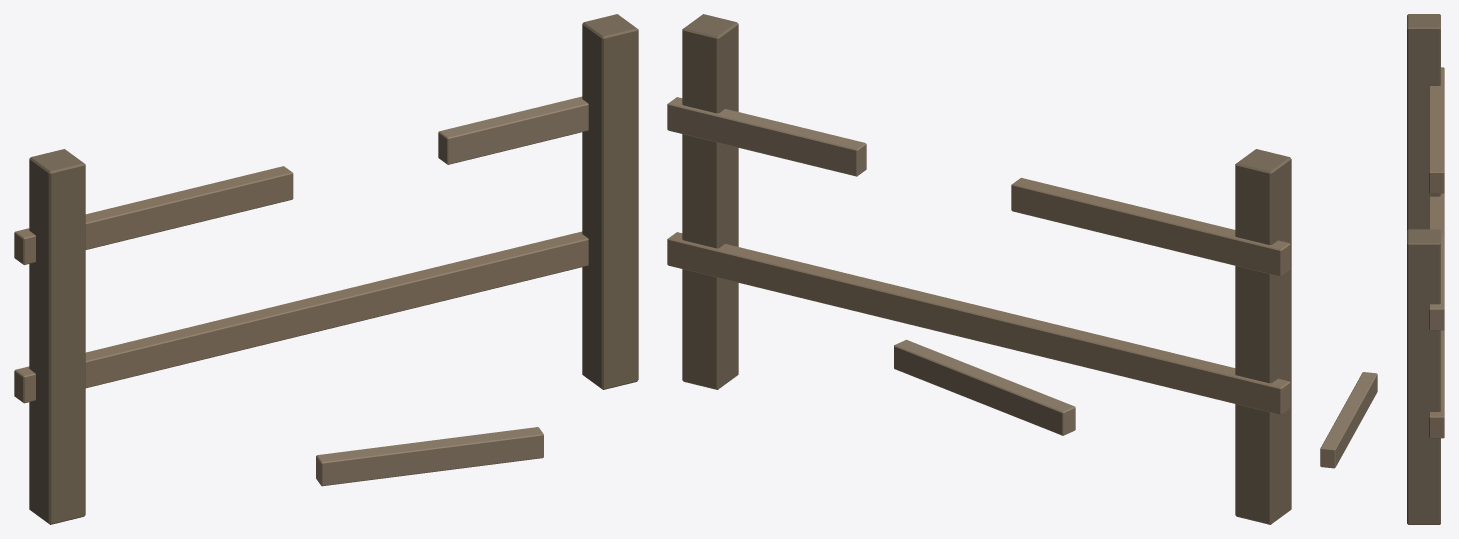
The model's file is env_fence_rail_broken_a.glb.
3 renders of one model, left to right at view 1: azimuth 30°, elevation 25°; view 2: azimuth 150°, elevation 25°; view 3: azimuth 270°, elevation 25°, orthographic. The views are drawn at different scales.
Parts seen in each view (by area): view 1: material_2, material_0, material_1; view 2: material_2, material_0, material_1; view 3: material_2, material_0, material_1.
Part boxes in pixels (box(x1,y1,x2,y2)): material_2: box(29, 14, 638, 524); material_0: box(14, 166, 588, 403); material_1: box(316, 96, 588, 486); material_2: box(682, 14, 1291, 524); material_0: box(667, 177, 1290, 414); material_1: box(667, 97, 1075, 435); material_2: box(1407, 14, 1440, 524); material_0: box(1429, 67, 1444, 438); material_1: box(1320, 235, 1444, 468).
Size of the model in its own units: 2 by 1.1 by 0.4386.
